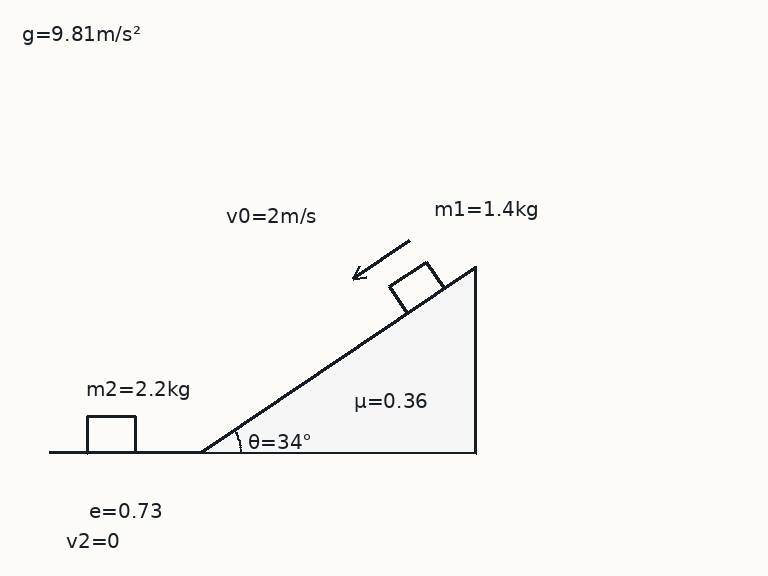block: (387, 259, 446, 315), (85, 414, 137, 454)
ramp: (199, 265, 477, 454)
